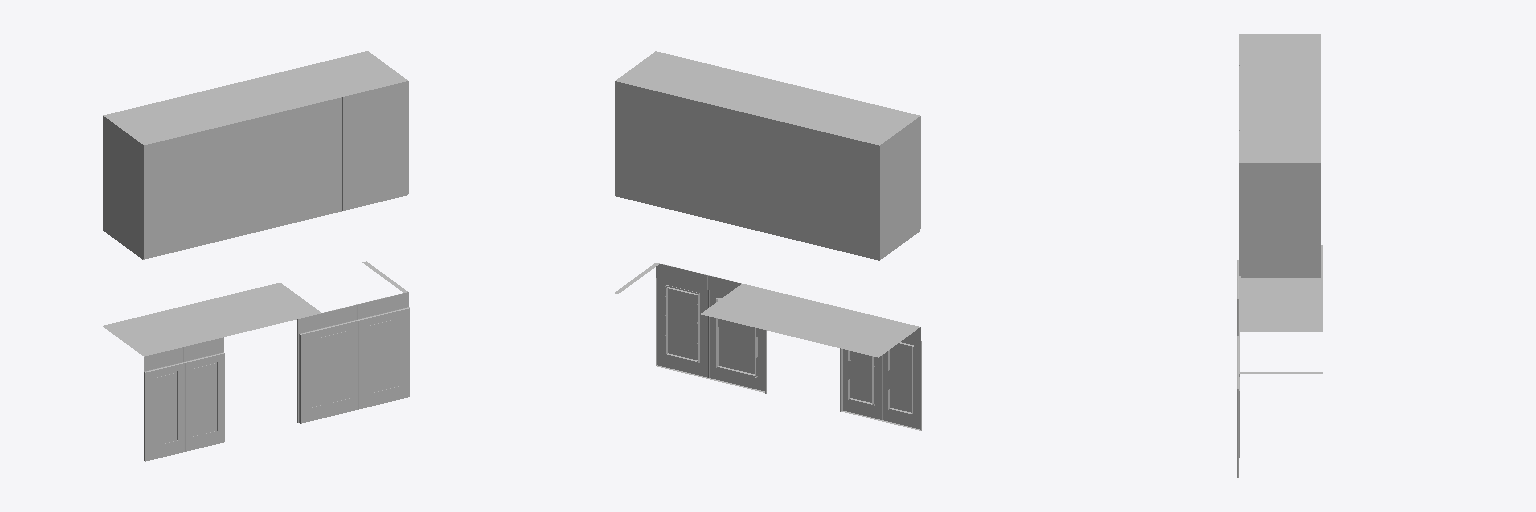
File: Kitchen.obj
3 views of the same model, side by side, from view 1: azimuth 30°, elevation 25°; view 2: azimuth 150°, elevation 25°; view 3: azimuth 270°, elevation 25° (orthographic).
Visible parts, largest first — view 1: Cube.077_Cube.064, Cube.078_Cube.065; view 2: Cube.077_Cube.064, Cube.078_Cube.065; view 3: Cube.077_Cube.064, Cube.078_Cube.065.
Boxes of the visible parts, box(x1,y1,x2,y2) form: Cube.077_Cube.064: box(103, 51, 408, 259); Cube.078_Cube.065: box(103, 261, 409, 461); Cube.077_Cube.064: box(615, 51, 920, 260); Cube.078_Cube.065: box(615, 263, 921, 430); Cube.077_Cube.064: box(1239, 34, 1320, 277); Cube.078_Cube.065: box(1237, 245, 1322, 477).
Size of the model in its own units: 2.86 by 3.25 by 0.8122.